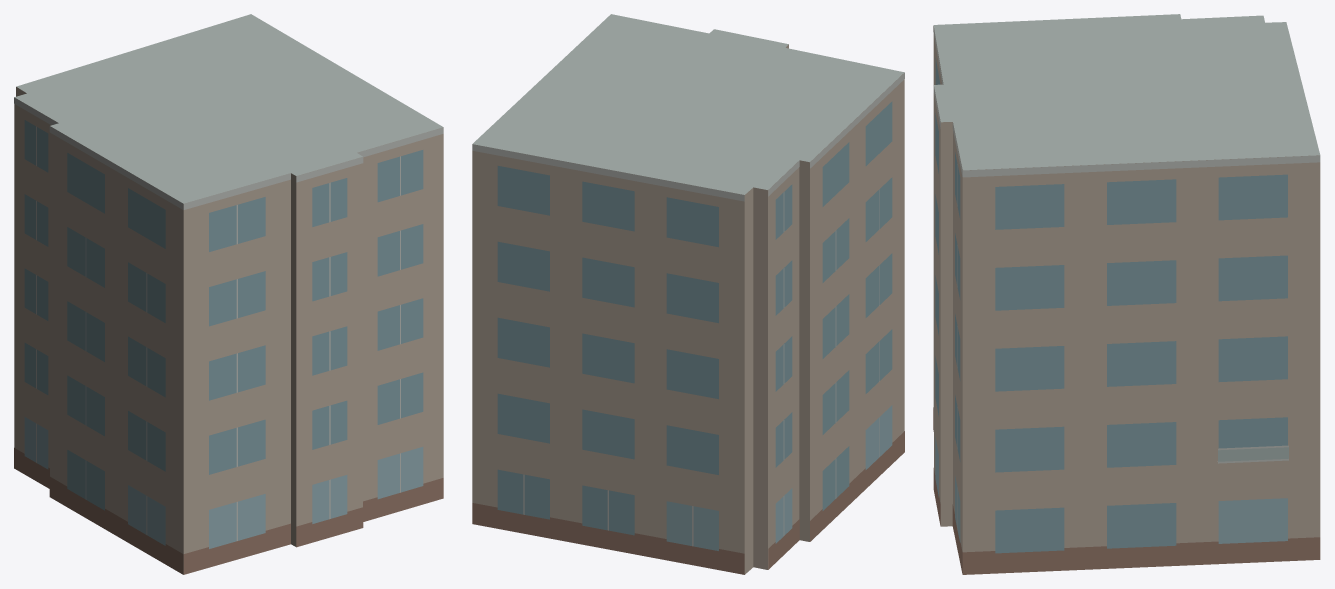
File: survey-upis-32986088.glb
3 renders of one model, left to right at view 1: azimuth 30°, elevation 25°; view 2: azimuth 150°, elevation 25°; view 3: azimuth 270°, elevation 25°, orthographic. The views are drawn at different scales.
Visible parts, largest first — view 1: survey-upis-32986088.tmp; view 2: survey-upis-32986088.tmp; view 3: survey-upis-32986088.tmp.
Part boxes in pixels (x1=…): survey-upis-32986088.tmp: x1=14, y1=14, x2=443, y2=574; survey-upis-32986088.tmp: x1=472, y1=14, x2=904, y2=574; survey-upis-32986088.tmp: x1=933, y1=14, x2=1320, y2=574.
Bounding box in the file's own units: 11.58 × 13.95 × 12.1.
